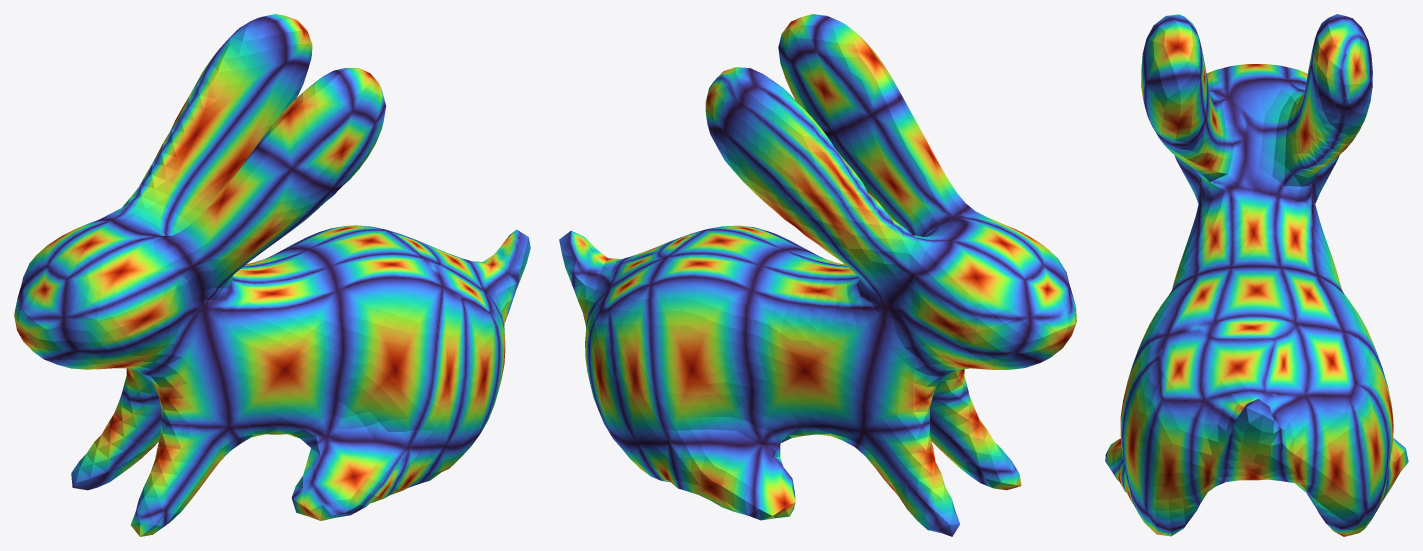
Rendered from gen2.glb.
The picture shows the model from 3 angles, left to right: view 1: azimuth 30°, elevation 25°; view 2: azimuth 150°, elevation 25°; view 3: azimuth 270°, elevation 25°; orthographic projection. The views are drawn at different scales.
Visible parts, largest first — view 1: Node; view 2: Node; view 3: Node.
Boxes of the visible parts, bbox=[...] form: Node: bbox=[14, 14, 530, 536]; Node: bbox=[559, 14, 1076, 536]; Node: bbox=[1105, 14, 1408, 536].
Size of the model in its own units: 101 by 79.96 by 47.22.
Materials: 1 (1 with a texture image).
